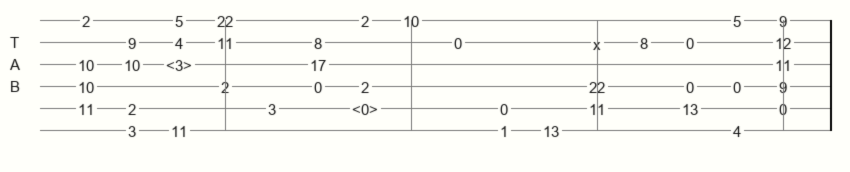0: (314, 79, 326, 94), (454, 35, 466, 50), (500, 101, 512, 116), (686, 35, 698, 50), (686, 79, 698, 94), (733, 79, 745, 94), (779, 101, 791, 116)
1: (500, 123, 512, 138)
10: (78, 79, 98, 94), (78, 57, 98, 72), (124, 57, 144, 72), (403, 13, 423, 28)
11: (78, 101, 98, 116), (171, 123, 191, 138), (217, 35, 237, 50), (589, 101, 609, 116), (775, 57, 795, 72)
12: (775, 35, 795, 50)
13: (543, 123, 563, 138), (682, 101, 702, 116)
17: (310, 57, 330, 72)
2: (82, 13, 94, 28), (128, 101, 140, 116), (221, 79, 233, 94), (361, 13, 373, 28), (361, 79, 373, 94)
22: (217, 13, 237, 28), (589, 79, 609, 94)
3: (128, 123, 140, 138), (268, 101, 280, 116)
4: (175, 35, 187, 50), (733, 123, 745, 138)
5: (175, 13, 187, 28), (733, 13, 745, 28)
8: (314, 35, 326, 50), (640, 35, 652, 50)
9: (128, 35, 140, 50), (779, 79, 791, 94), (779, 13, 791, 28)
harmonic: (166, 57, 196, 72), (352, 101, 382, 116)
x: (593, 36, 605, 48)
